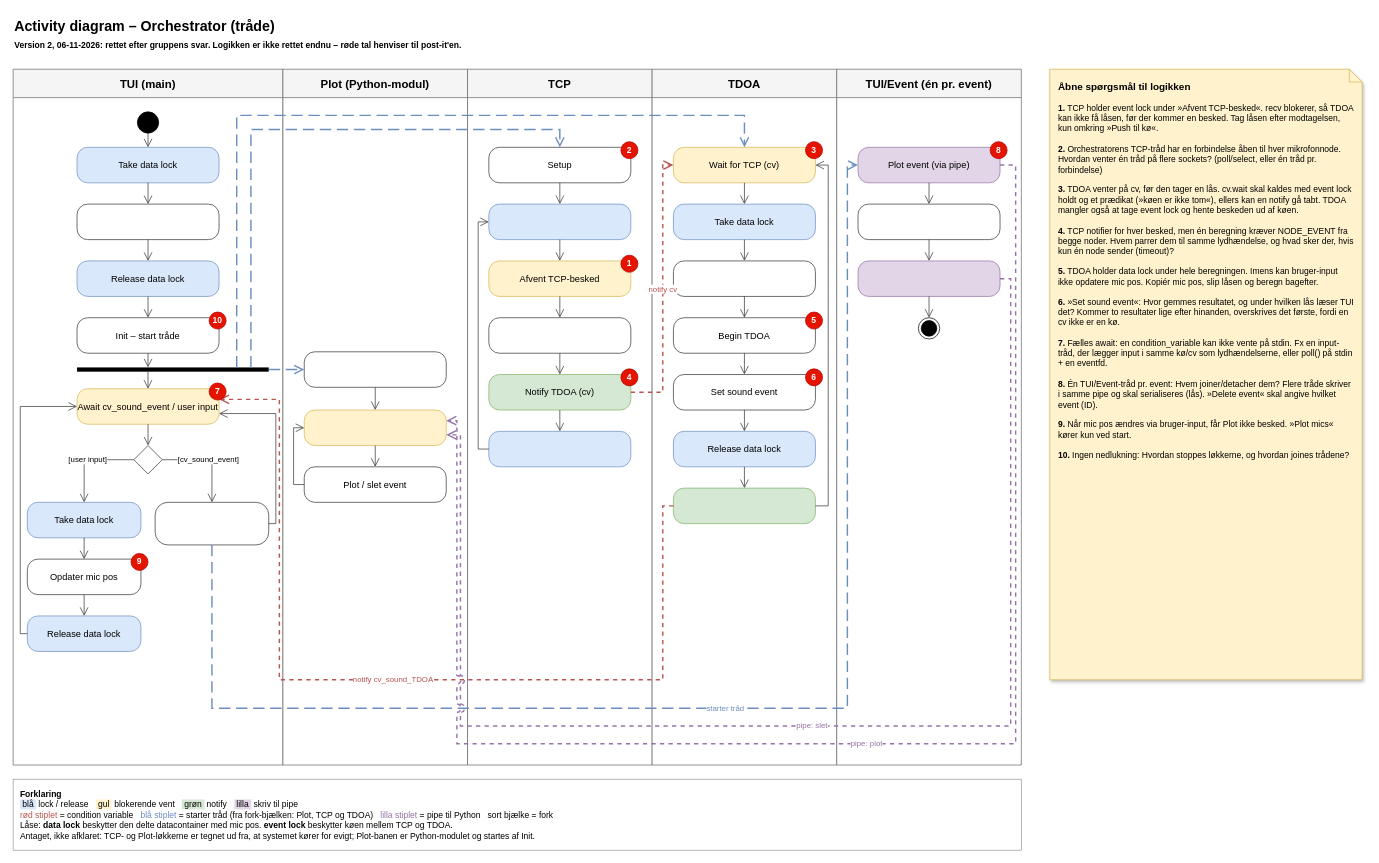
Some shapes in this 1379 by 863 pixel diagram are drawn without their labels. Each missing label, with the centre of its shape:
Await besked (pipe): (x=375, y=427)
Delete event (via pipe): (x=928, y=278)
Event: start TUI/Event-tråd med position: (x=211, y=523)
Get mic pos: (x=744, y=278)
Input mic pos (første opsætning): (x=147, y=221)
Notify TUI (cv_sound_TDOA): (x=744, y=505)
Plot mics: (x=375, y=369)
Push til kø: (x=559, y=335)
Release event lock: (x=559, y=449)
Sleep 60 s: (x=928, y=221)
Take event lock: (x=559, y=221)
